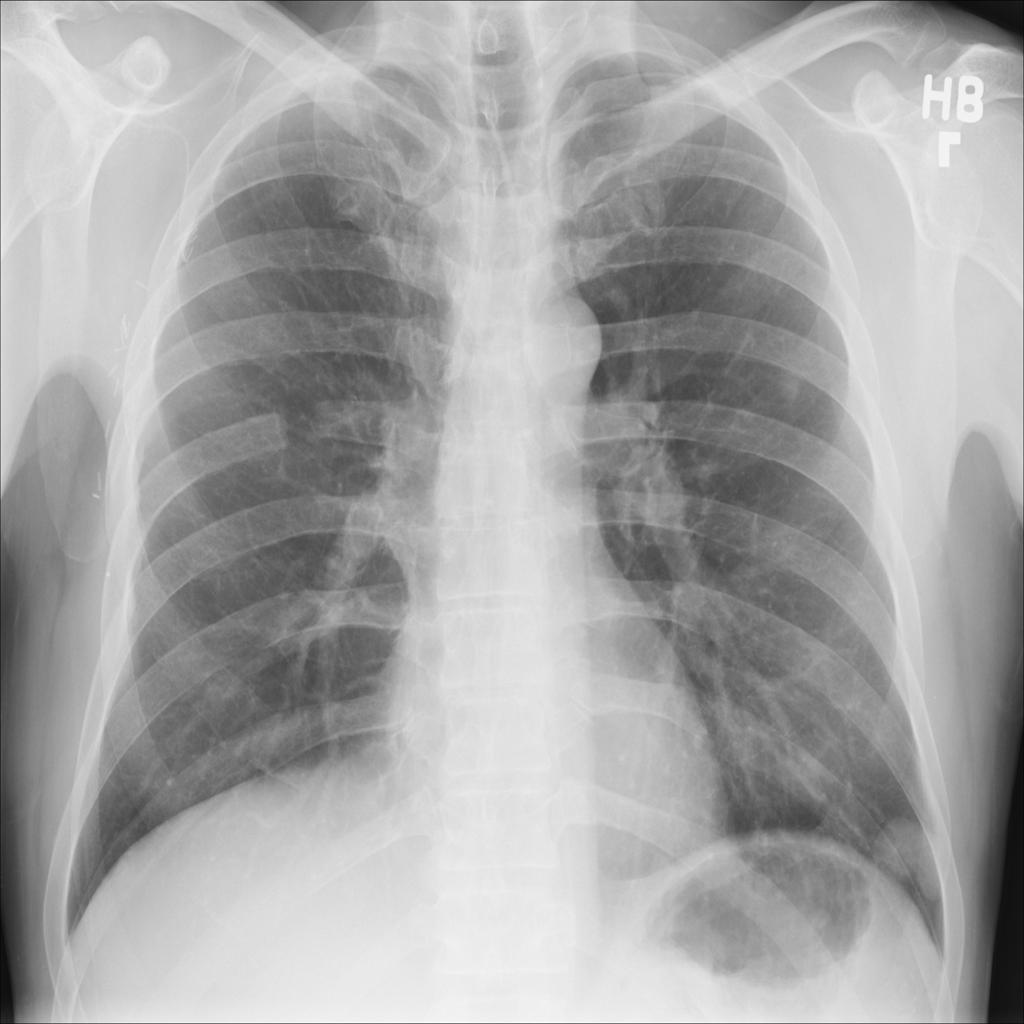nodule: (869, 808, 943, 896), (760, 346, 827, 420)
